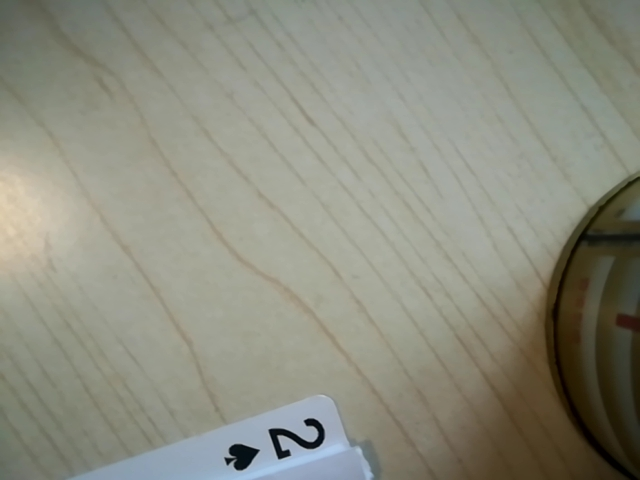ht 2: (204, 410, 345, 475)
